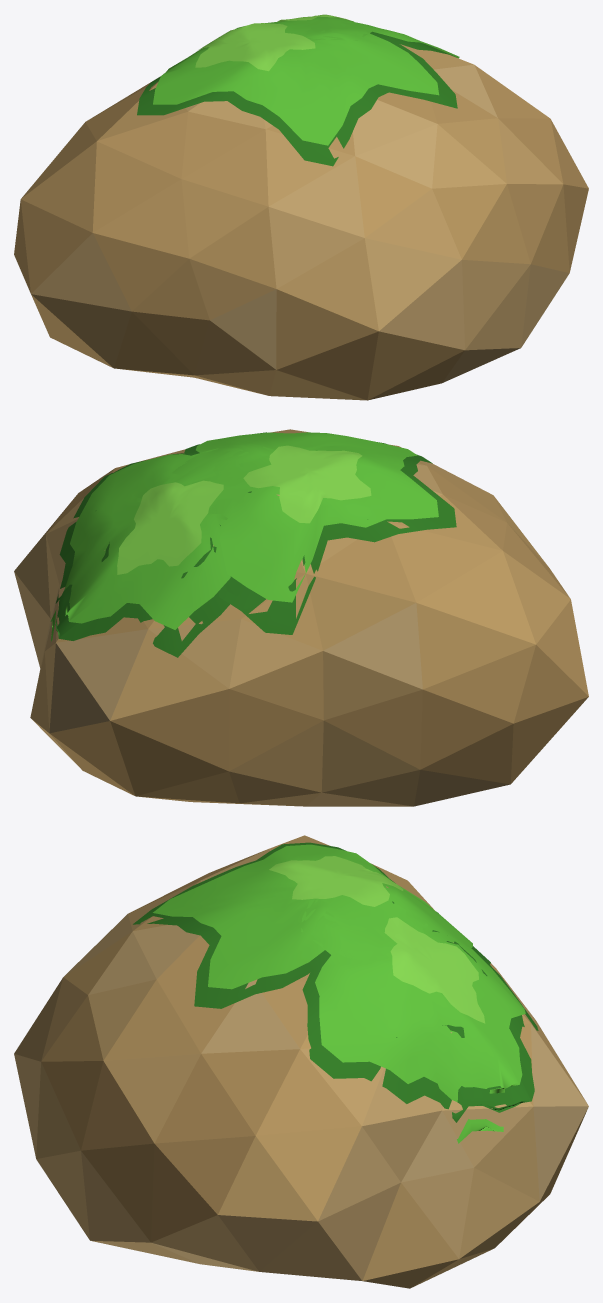
File: rock_5_clover.glb
3 views of the same model, one above another, from view 1: azimuth 30°, elevation 25°; view 2: azimuth 150°, elevation 25°; view 3: azimuth 270°, elevation 25° (orthographic). The views are drawn at different scales.
Parts seen in each view (by area): view 1: rock_5_clover; view 2: rock_5_clover; view 3: rock_5_clover.
Part boxes in pixels (x1,y1,x2,y2): rock_5_clover: (14, 14, 588, 400); rock_5_clover: (14, 429, 588, 806); rock_5_clover: (14, 835, 588, 1288).
Bounding box in the file's own units: 4.02 × 2.14 × 3.42.
